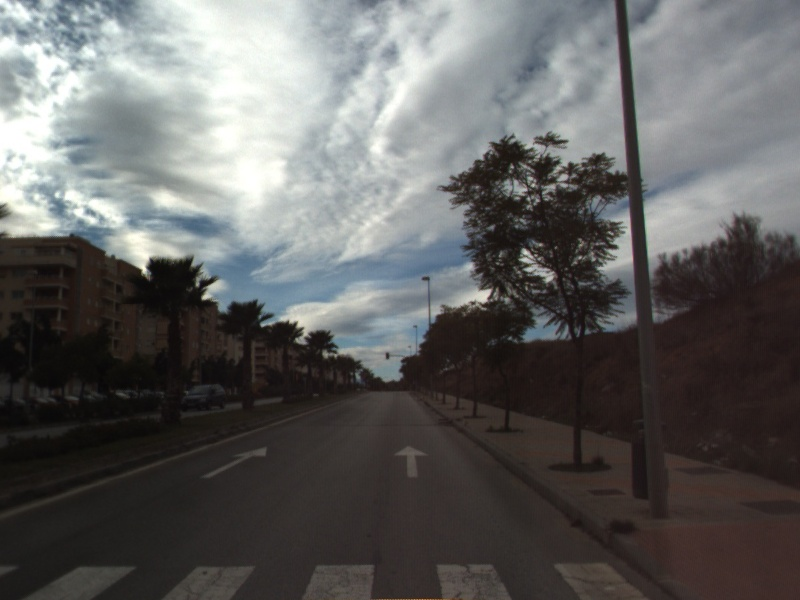STRAIGHT: (199, 444, 269, 480), (392, 444, 431, 480)
